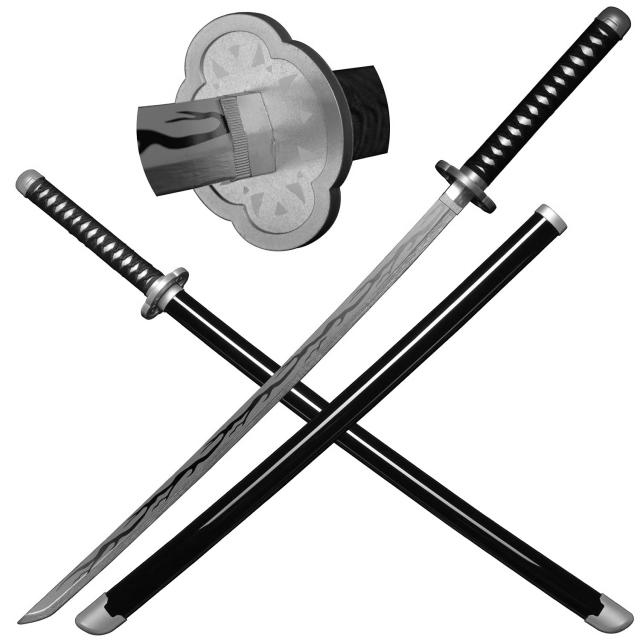Knife: (8, 152, 640, 640)
